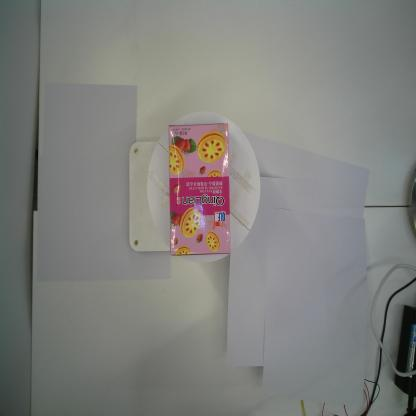Dessert: (166, 121, 233, 258)
